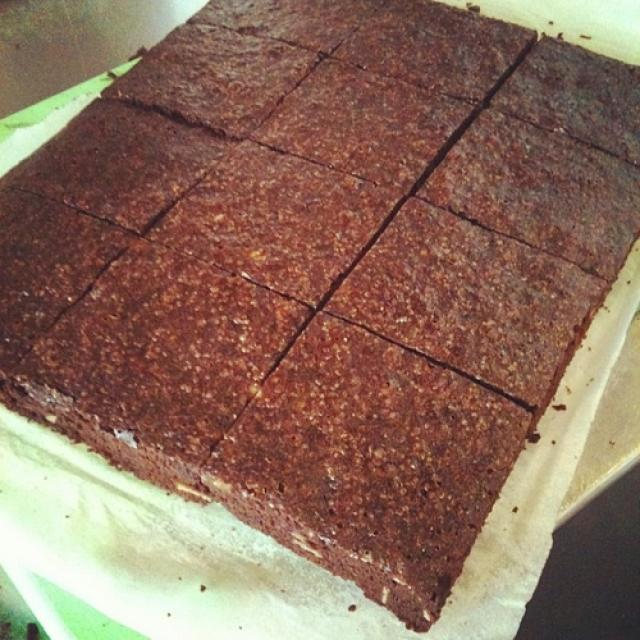蛋糕甜品: (9, 16, 617, 618)
